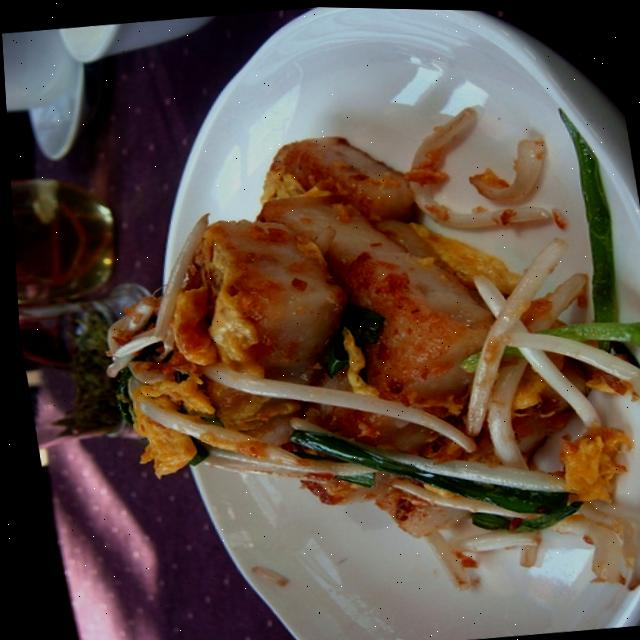蛋糕甜品: (84, 122, 550, 547)
